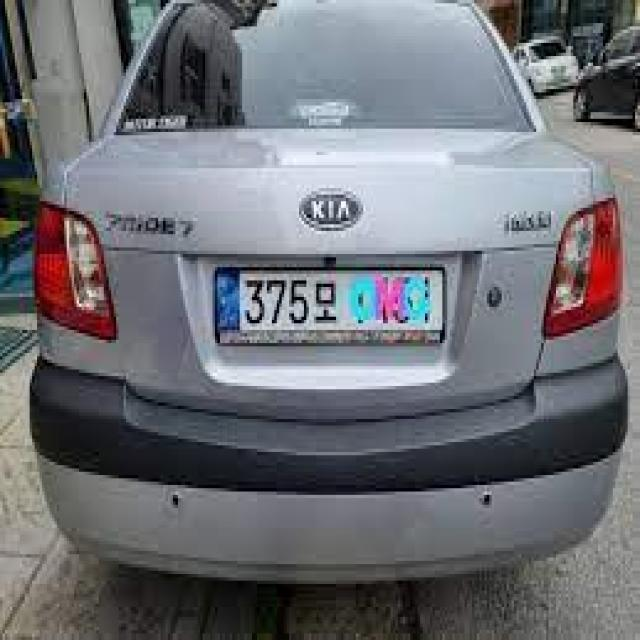car: (27, 0, 640, 585)
illegal_plate: (212, 264, 455, 358)
